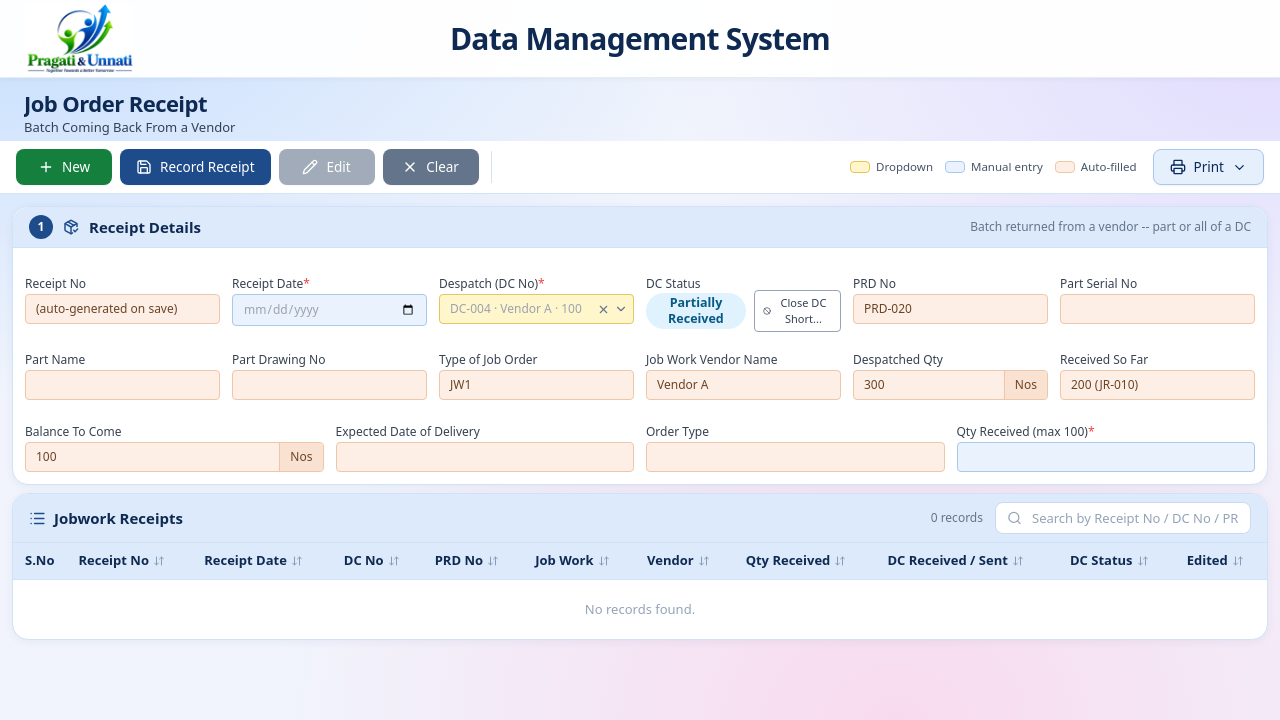
Test: Job Work Receipt -- Close DC Short button › DB refusal shown as a toast
This screenshot has width=1280, height=720.
Expected: the text "Partially Received" is shown, [646,293,746,329]
Click the button "Close DC Short..." at (797,311), box [754,290,841,332]
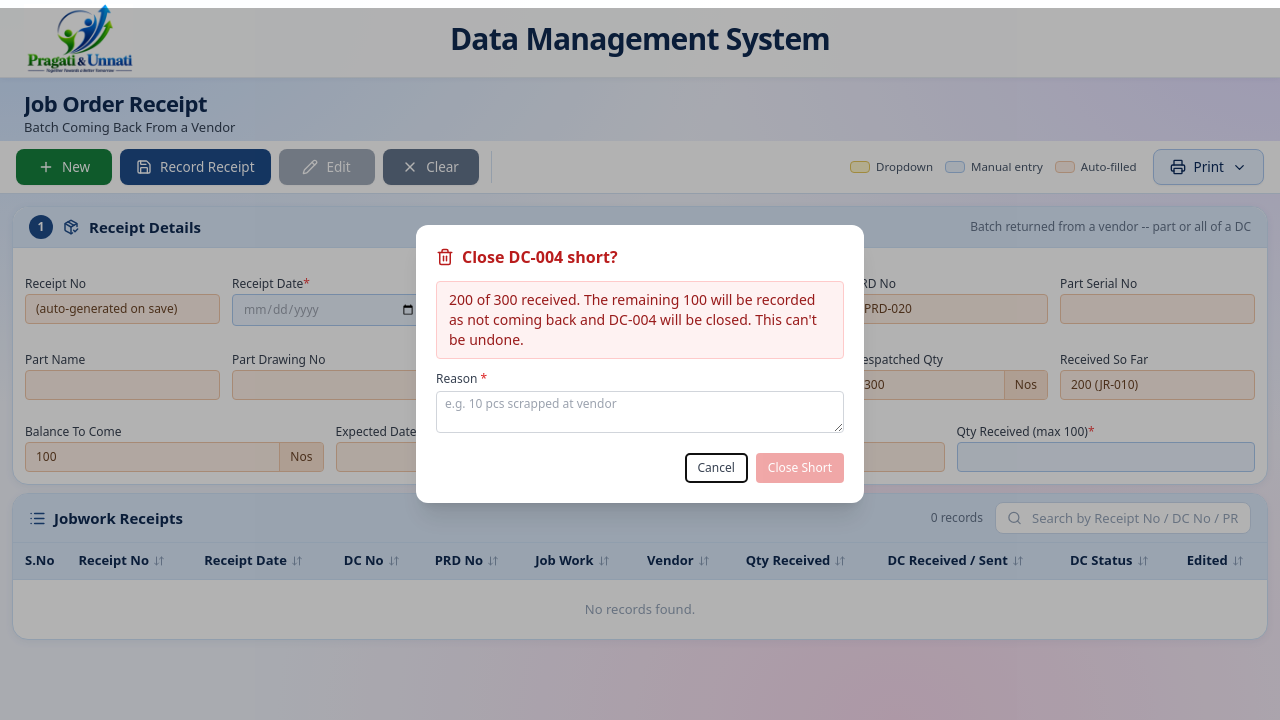
Type "x" into the text box named "Close short reason" at (640,412), box [436,391,844,433]
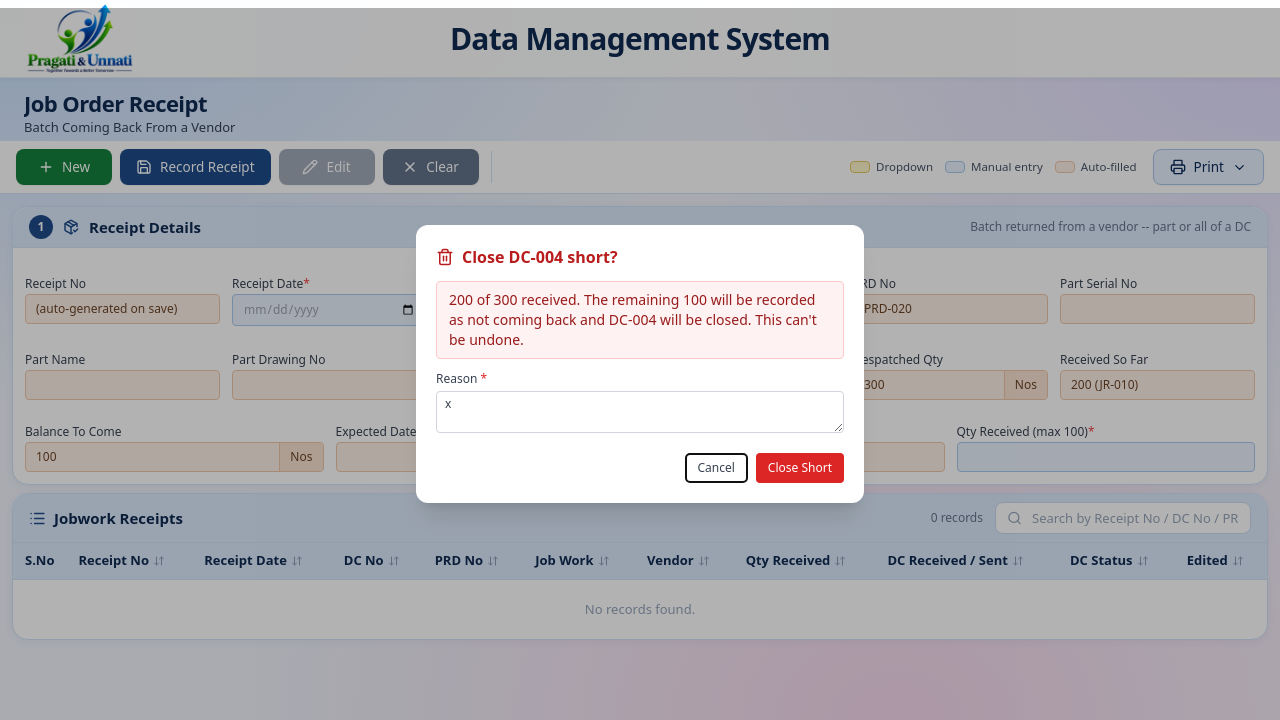
Click the button "Close Short" at (800,468), box [756,453,844,483]
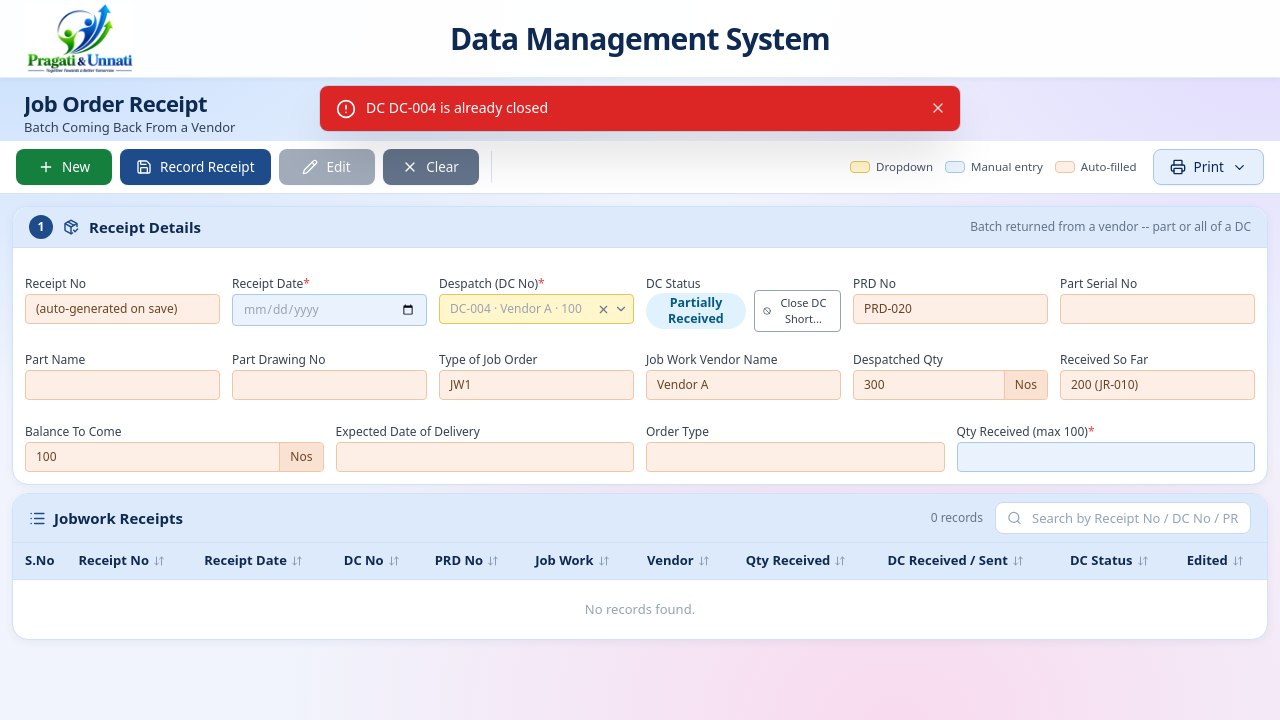
Expected: the text "DC DC-004 is already closed" is shown, [366,98,548,117]
